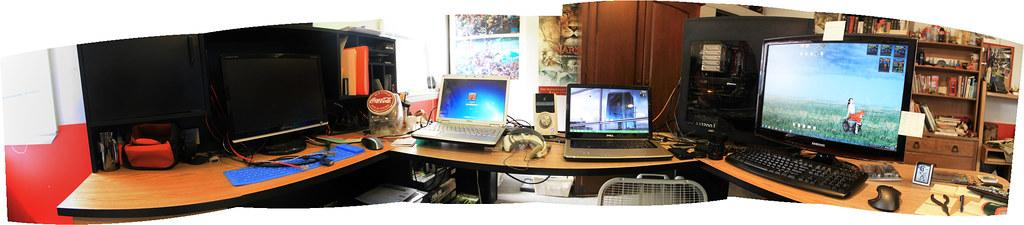computer: (755, 35, 918, 163), (676, 17, 818, 140), (219, 52, 330, 155), (563, 83, 674, 161), (412, 75, 510, 146)
